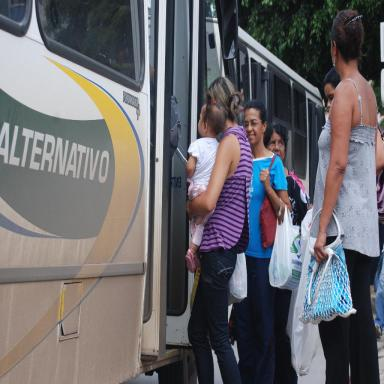plasticbag: (286, 235, 320, 376), (289, 201, 315, 337), (267, 195, 302, 290), (226, 252, 248, 308)
